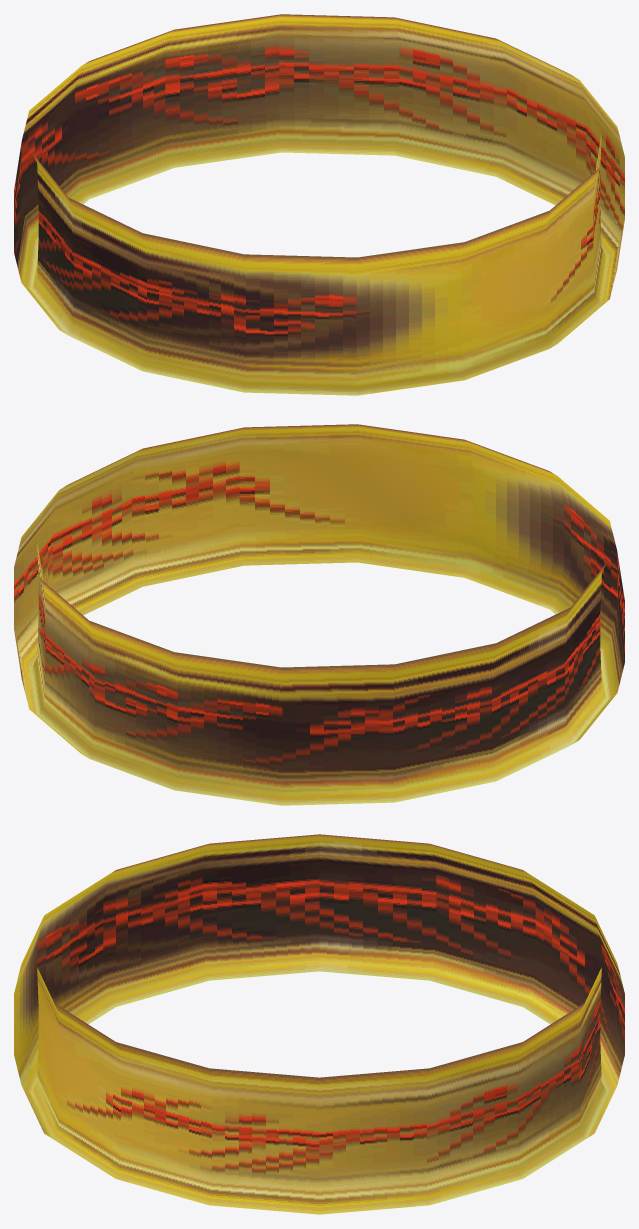
The model's file is ps2_save-icons_thelordoftheringsthereturnoftheking.glb.
The picture shows the model from 3 angles, top to bottom: view 1: azimuth 30°, elevation 25°; view 2: azimuth 150°, elevation 25°; view 3: azimuth 270°, elevation 25°; orthographic projection.
Parts seen in each view (by area): view 1: lotrrotk.ico; view 2: lotrrotk.ico; view 3: lotrrotk.ico.
Boxes of the visible parts, x1,y1,x2,y2 form: lotrrotk.ico: (14, 14, 624, 395); lotrrotk.ico: (14, 424, 624, 805); lotrrotk.ico: (14, 834, 624, 1214).
Bounding box in the file's own units: 3.97 × 0.9822 × 3.97.
Materials: 1 (1 with a texture image).
